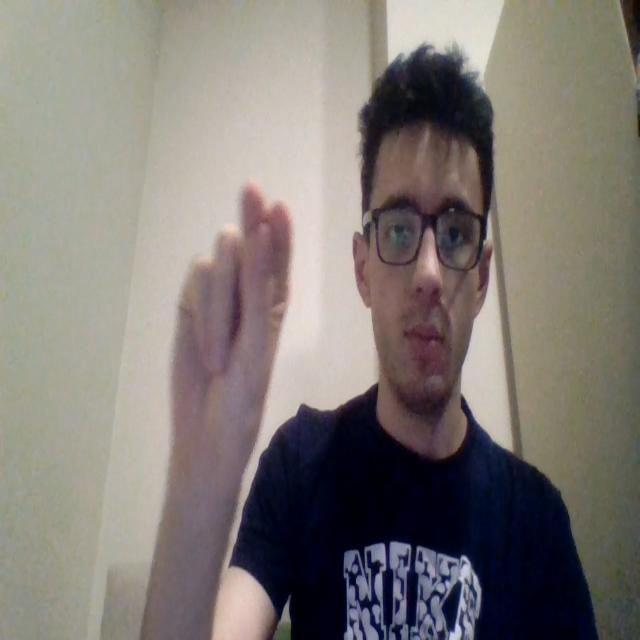no: (169, 180, 293, 494)
